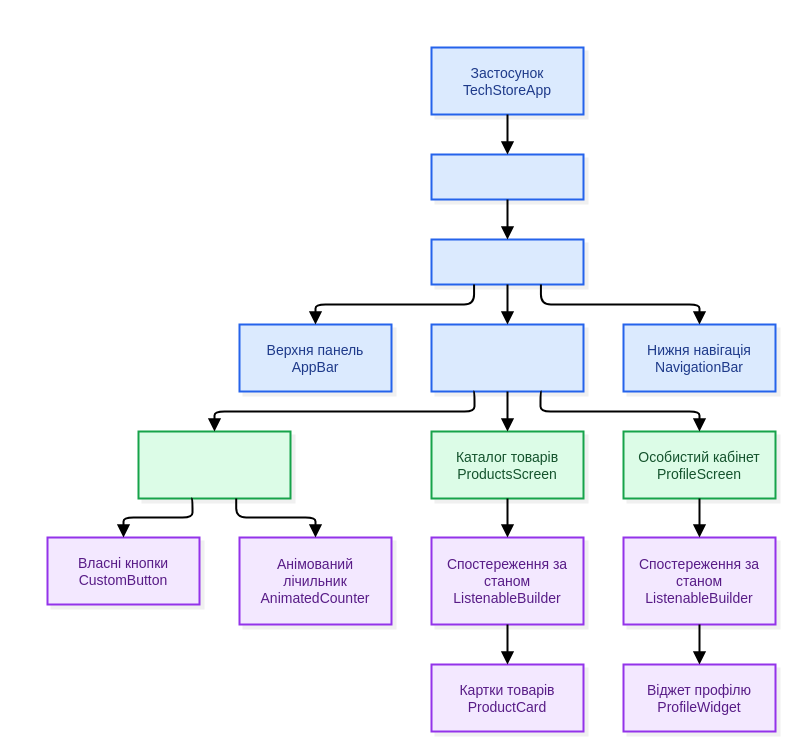
The diagram is 797 pixels wide and 753 high, and some of its shapes have lost their labels. Each missing label, with the centre of its shape:
MaterialApp: (x=509, y=178)
Scaffold: (x=509, y=263)
Вміст екранів IndexedStack: (x=509, y=359)
Головний екран HomeScreen: (x=216, y=466)
